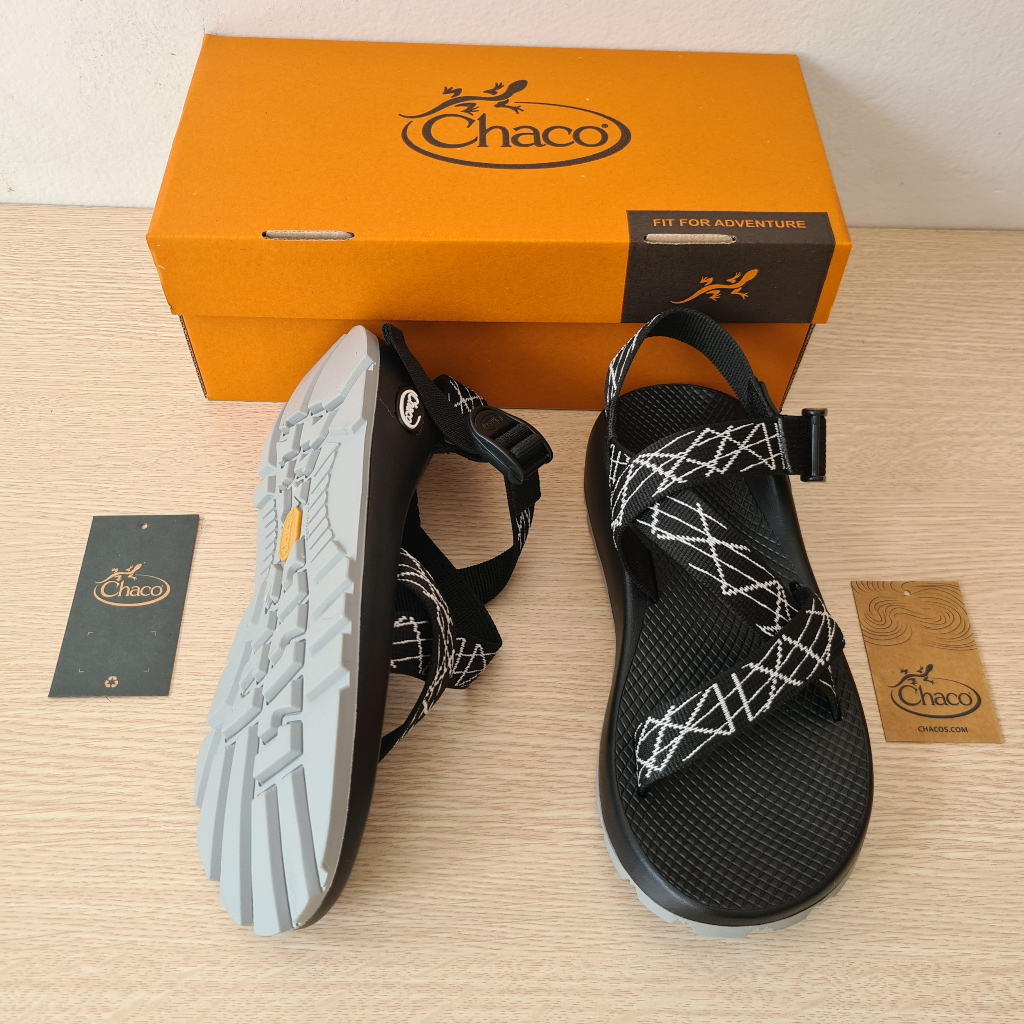sandals: (193, 320, 553, 937), (577, 304, 876, 925)
